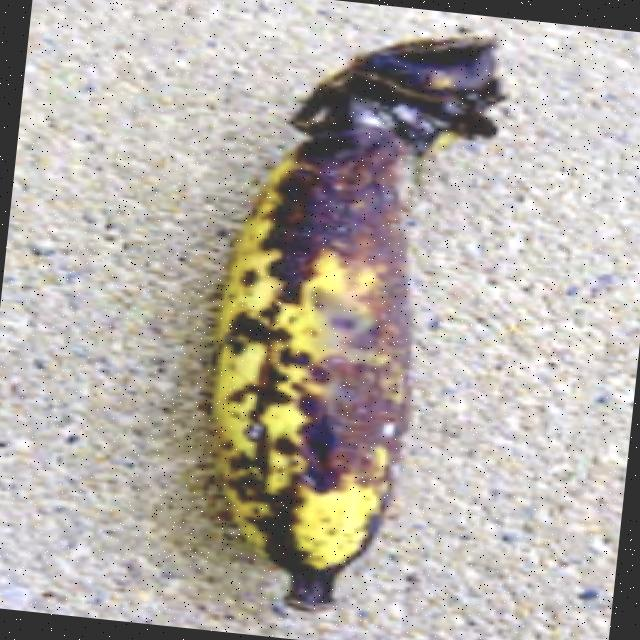Rotten: (139, 4, 565, 640)
